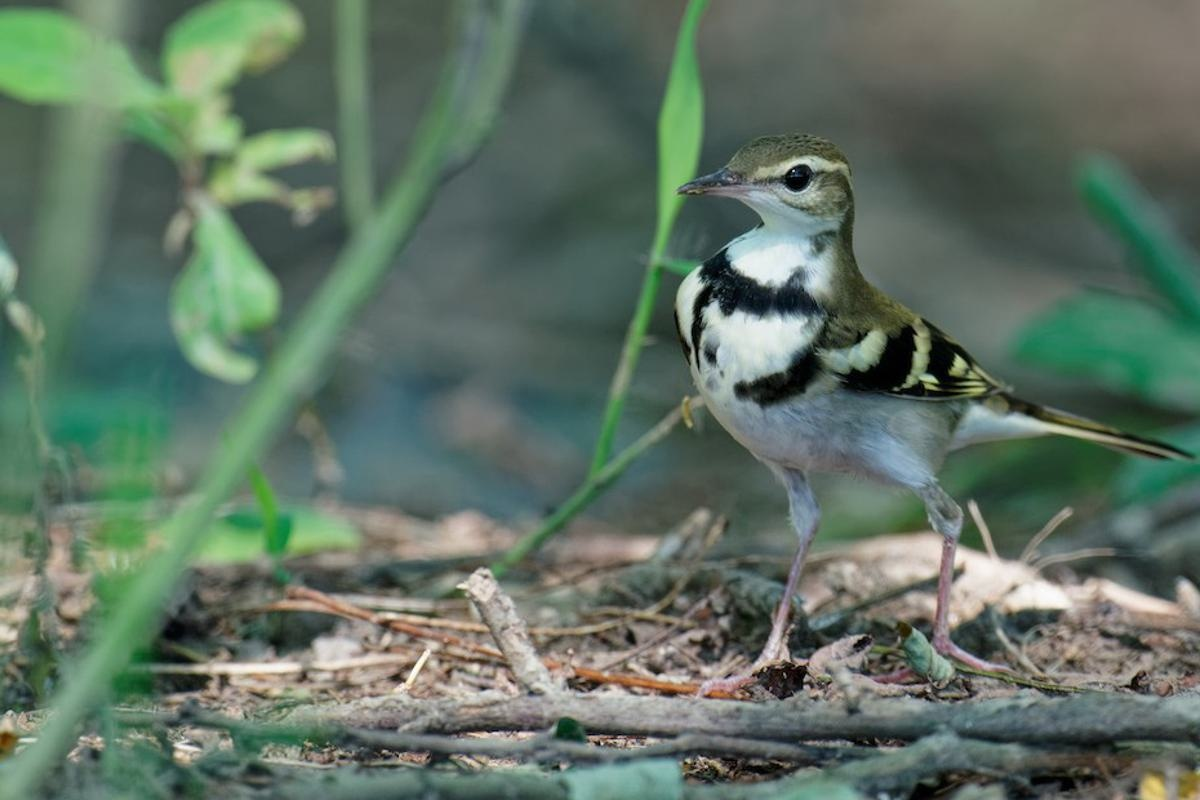wagtail: (673, 121, 1077, 627)
